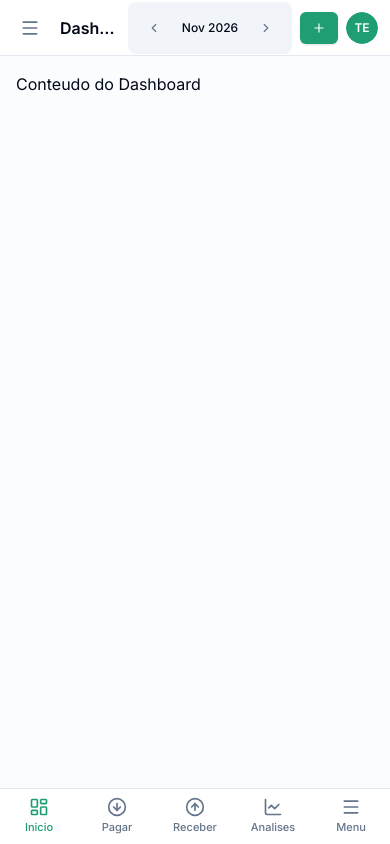
Test: AppLayout - navegacao responsiva › abre o menu completo (drawer) ao clicar em "Menu" na barra inferior
The width and height of the screenshot is (390, 844).
Click the button with aria-label "abrir menu completo" at [351, 816], box [312,789,389,843]
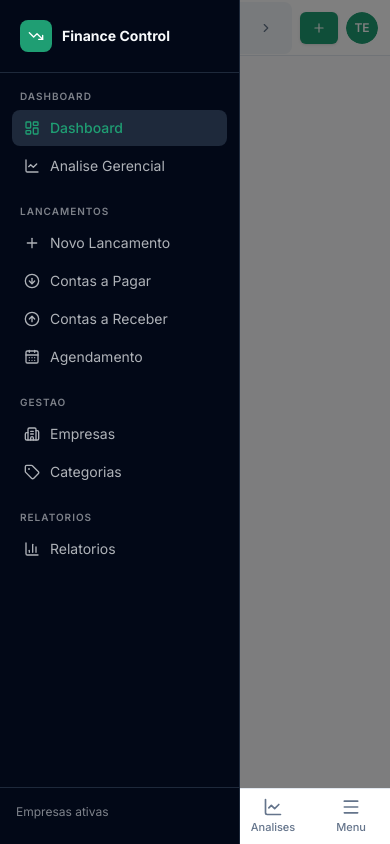
Expected: the text "Finance Control" has class "translate-x-0"
